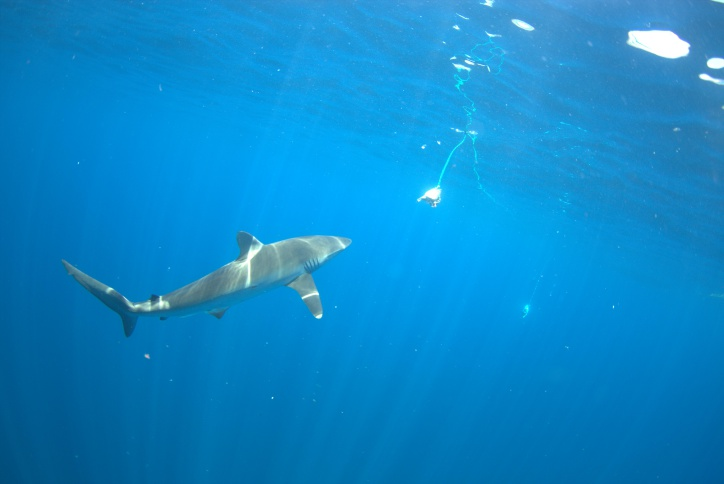Sedoso: (42, 219, 355, 344)
